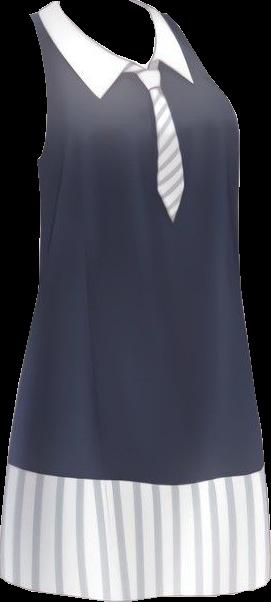Bodice: (0, 0, 270, 600)
Neckline: (54, 0, 157, 70)
Waistline: (0, 575, 270, 601)
